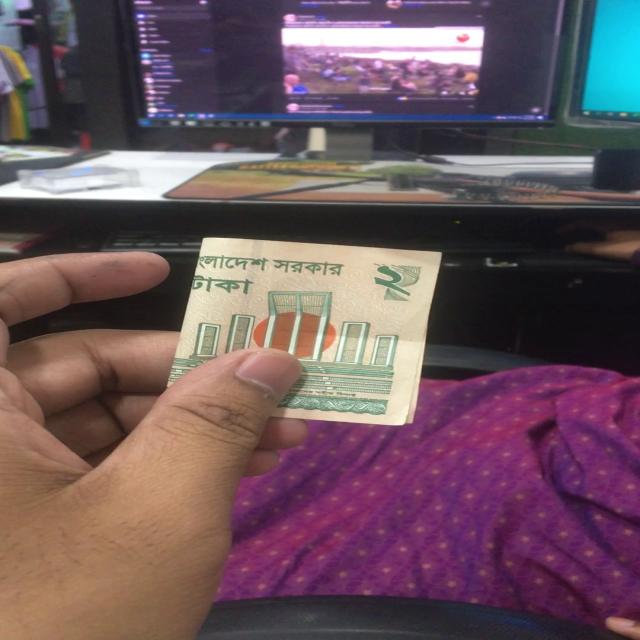Taka: (185, 233, 437, 430)
